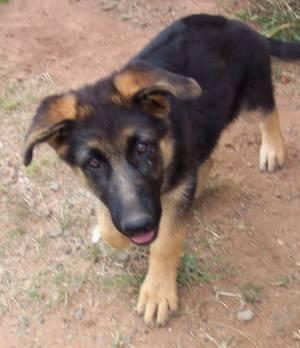German_shepherd: (16, 11, 289, 330)
